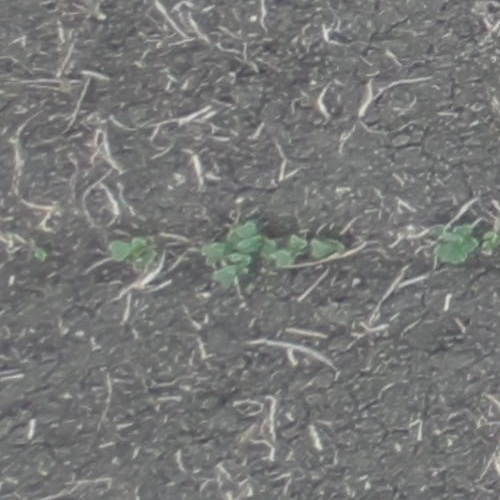plant: (200, 220, 266, 289), (272, 234, 347, 270), (426, 223, 479, 264), (105, 237, 160, 264), (26, 242, 51, 264)
